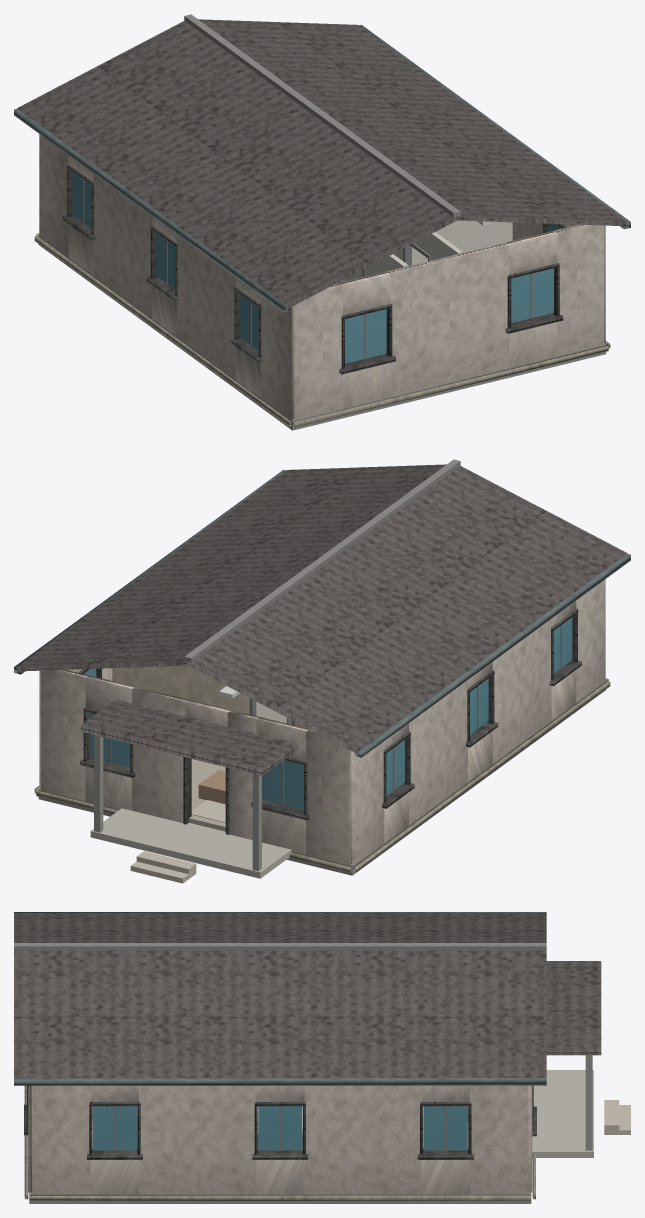
File: HAB_150_Z2_R14_ALBEDO_OTIM_CANDIDATO.gltf
3 views of the same model, one above another, from view 1: azimuth 30°, elevation 25°; view 2: azimuth 150°, elevation 25°; view 3: azimuth 270°, elevation 25° (orthographic).
Visible parts, largest first — view 1: HAB_150_COBERTURA_OESTE, HAB_150_COBERTURA_LESTE, HAB_150_FACHADA_FUNDOS_PAREDE_SEG01_E, HAB_150_FACHADA_FUNDOS_PAREDE_SEG00_E, HAB_150_FACHADA_LATERAL_O_PAREDE_SEG02_E, HAB_150_FACHADA_LATERAL_O_PAREDE_SEG01_E, HAB_150_FACHADA_FUNDOS_PAREDE_FINAL, HAB_150_REV26_ARREMATE_EMBASAMENTO, HAB_150_FACHADA_LATERAL_O_PAREDE_FINAL, HAB_150_CUMEEIRA, HAB_150_FACHADA_LATERAL_O_PAREDE_SEG00_E, HAB_150_CALHA_ESQUERDA (+16 smaller); view 2: HAB_150_COBERTURA_OESTE, HAB_150_COBERTURA_LESTE, HAB_150_VARANDA_COBERTURA, HAB_150_VARANDA_PISO, HAB_150_FACHADA_LATERAL_O_PAREDE_SEG01_E, HAB_150_FACHADA_LATERAL_O_PAREDE_SEG02_E, HAB_150_FACHADA_FRONTAL_PAREDE_FINAL, HAB_150_FACHADA_FRONTAL_PAREDE_SEG00_E, HAB_150_FACHADA_FRONTAL_PAREDE_SEG02_E, HAB_150_FACHADA_LATERAL_O_PAREDE_SEG00_E, HAB_150_PAREDE_TRANSVERSAL_SALA_PAREDE_FINAL, HAB_150_CUMEEIRA (+25 smaller); view 3: HAB_150_COBERTURA_LESTE, HAB_150_COBERTURA_OESTE, HAB_150_FACHADA_LATERAL_L_PAREDE_SEG02_E, HAB_150_FACHADA_LATERAL_L_PAREDE_SEG01_E, HAB_150_FACHADA_LATERAL_L_PAREDE_FINAL, HAB_150_FACHADA_LATERAL_L_PAREDE_SEG00_E, HAB_150_VARANDA_COBERTURA, HAB_150_VARANDA_PISO, HAB_150_CUMEEIRA, HAB_150_CALHA_DIREITA, HAB_150_REV26_ARREMATE_EMBASAMENTO, HAB_150_FUNDAÇÃO (+17 smaller).
Boxes of the visible parts, box(x1,y1,x2,y2) form: HAB_150_COBERTURA_OESTE: box(17, 21, 457, 309); HAB_150_COBERTURA_LESTE: box(198, 19, 627, 226); HAB_150_FACHADA_FUNDOS_PAREDE_SEG01_E: box(386, 242, 509, 397); HAB_150_FACHADA_FUNDOS_PAREDE_SEG00_E: box(293, 283, 342, 420); HAB_150_FACHADA_LATERAL_O_PAREDE_SEG02_E: box(177, 235, 235, 379); HAB_150_FACHADA_LATERAL_O_PAREDE_SEG01_E: box(93, 173, 152, 318); HAB_150_FACHADA_FUNDOS_PAREDE_FINAL: box(554, 224, 604, 356); HAB_150_REV26_ARREMATE_EMBASAMENTO: box(34, 233, 610, 427); HAB_150_FACHADA_LATERAL_O_PAREDE_FINAL: box(260, 296, 293, 419); HAB_150_CUMEEIRA: box(184, 14, 460, 217); HAB_150_FACHADA_LATERAL_O_PAREDE_SEG00_E: box(39, 134, 68, 257); HAB_150_CALHA_ESQUERDA: box(14, 108, 290, 312); HAB_150_COBERTURA_OESTE: box(187, 466, 627, 754); HAB_150_COBERTURA_LESTE: box(17, 464, 446, 671); HAB_150_VARANDA_COBERTURA: box(81, 699, 297, 775); HAB_150_VARANDA_PISO: box(90, 808, 291, 878); HAB_150_FACHADA_LATERAL_O_PAREDE_SEG01_E: box(409, 680, 467, 824); HAB_150_FACHADA_LATERAL_O_PAREDE_SEG02_E: box(492, 619, 551, 763); HAB_150_FACHADA_FRONTAL_PAREDE_FINAL: box(40, 669, 89, 800); HAB_150_FACHADA_FRONTAL_PAREDE_SEG00_E: box(306, 729, 351, 865); HAB_150_FACHADA_FRONTAL_PAREDE_SEG02_E: box(132, 687, 188, 822); HAB_150_FACHADA_LATERAL_O_PAREDE_SEG00_E: box(351, 741, 384, 864); HAB_150_PAREDE_TRANSVERSAL_SALA_PAREDE_FINAL: box(112, 665, 249, 714); HAB_150_CUMEEIRA: box(184, 459, 460, 662); HAB_150_COBERTURA_LESTE: box(14, 950, 546, 1077); HAB_150_COBERTURA_OESTE: box(14, 913, 546, 942); HAB_150_FACHADA_LATERAL_L_PAREDE_SEG02_E: box(139, 1085, 256, 1194); HAB_150_FACHADA_LATERAL_L_PAREDE_SEG01_E: box(304, 1085, 421, 1194); HAB_150_FACHADA_LATERAL_L_PAREDE_FINAL: box(32, 1085, 90, 1194); HAB_150_FACHADA_LATERAL_L_PAREDE_SEG00_E: box(470, 1085, 528, 1194); HAB_150_VARANDA_COBERTURA: box(546, 961, 601, 1055); HAB_150_VARANDA_PISO: box(532, 1070, 593, 1157); HAB_150_CUMEEIRA: box(14, 943, 546, 950); HAB_150_CALHA_DIREITA: box(14, 1078, 546, 1085); HAB_150_REV26_ARREMATE_EMBASAMENTO: box(24, 1085, 535, 1200); HAB_150_FUNDAÇÃO: box(29, 1192, 531, 1203).
Size of the model in its own units: 8.05 by 4.11 by 12.52.
10 materials, 10 textured.
